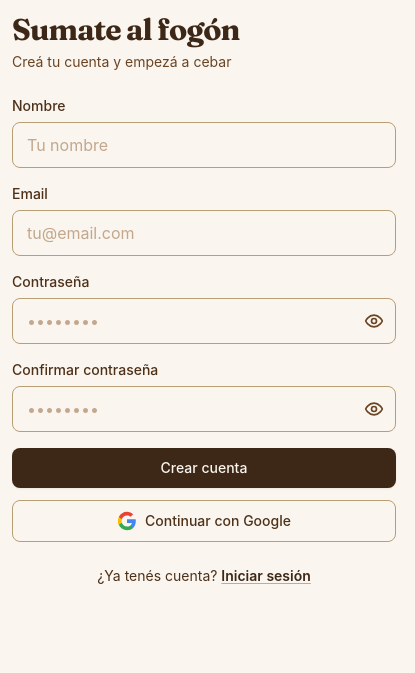
<RegisterPage /> (formulario de registro) › muestra error si las contraseñas no coinciden
The image size is (415, 673).
Type "secret123" into the password field labelled "Contraseña". click: (204, 321)
box: [12,298,396,344]
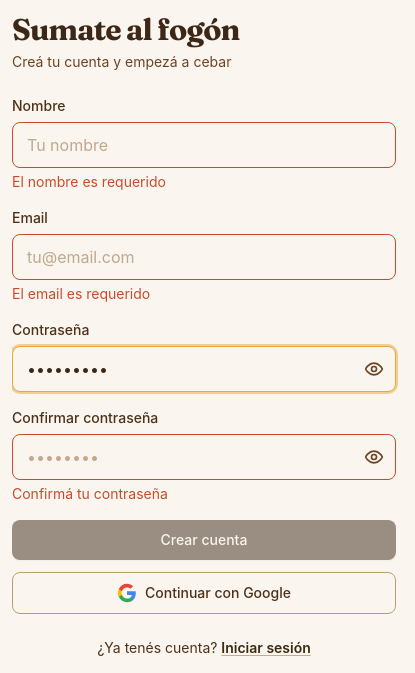
Type "diferente" into the password field labelled "Confirmar contraseña". click: (204, 457)
box: [12,434,396,480]
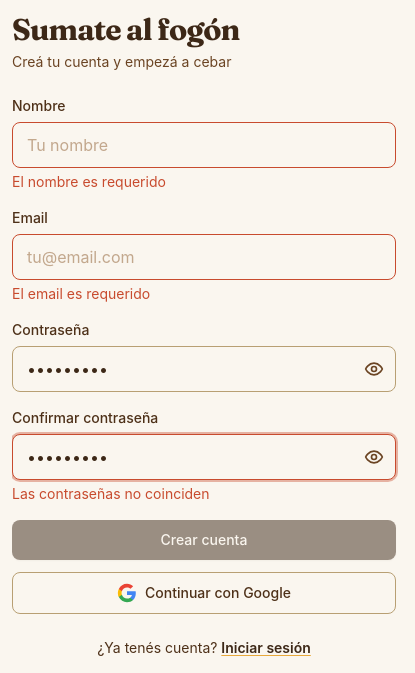
Check: the text "Las contraseñas no coinciden" is shown, box [12,485,210,502]
